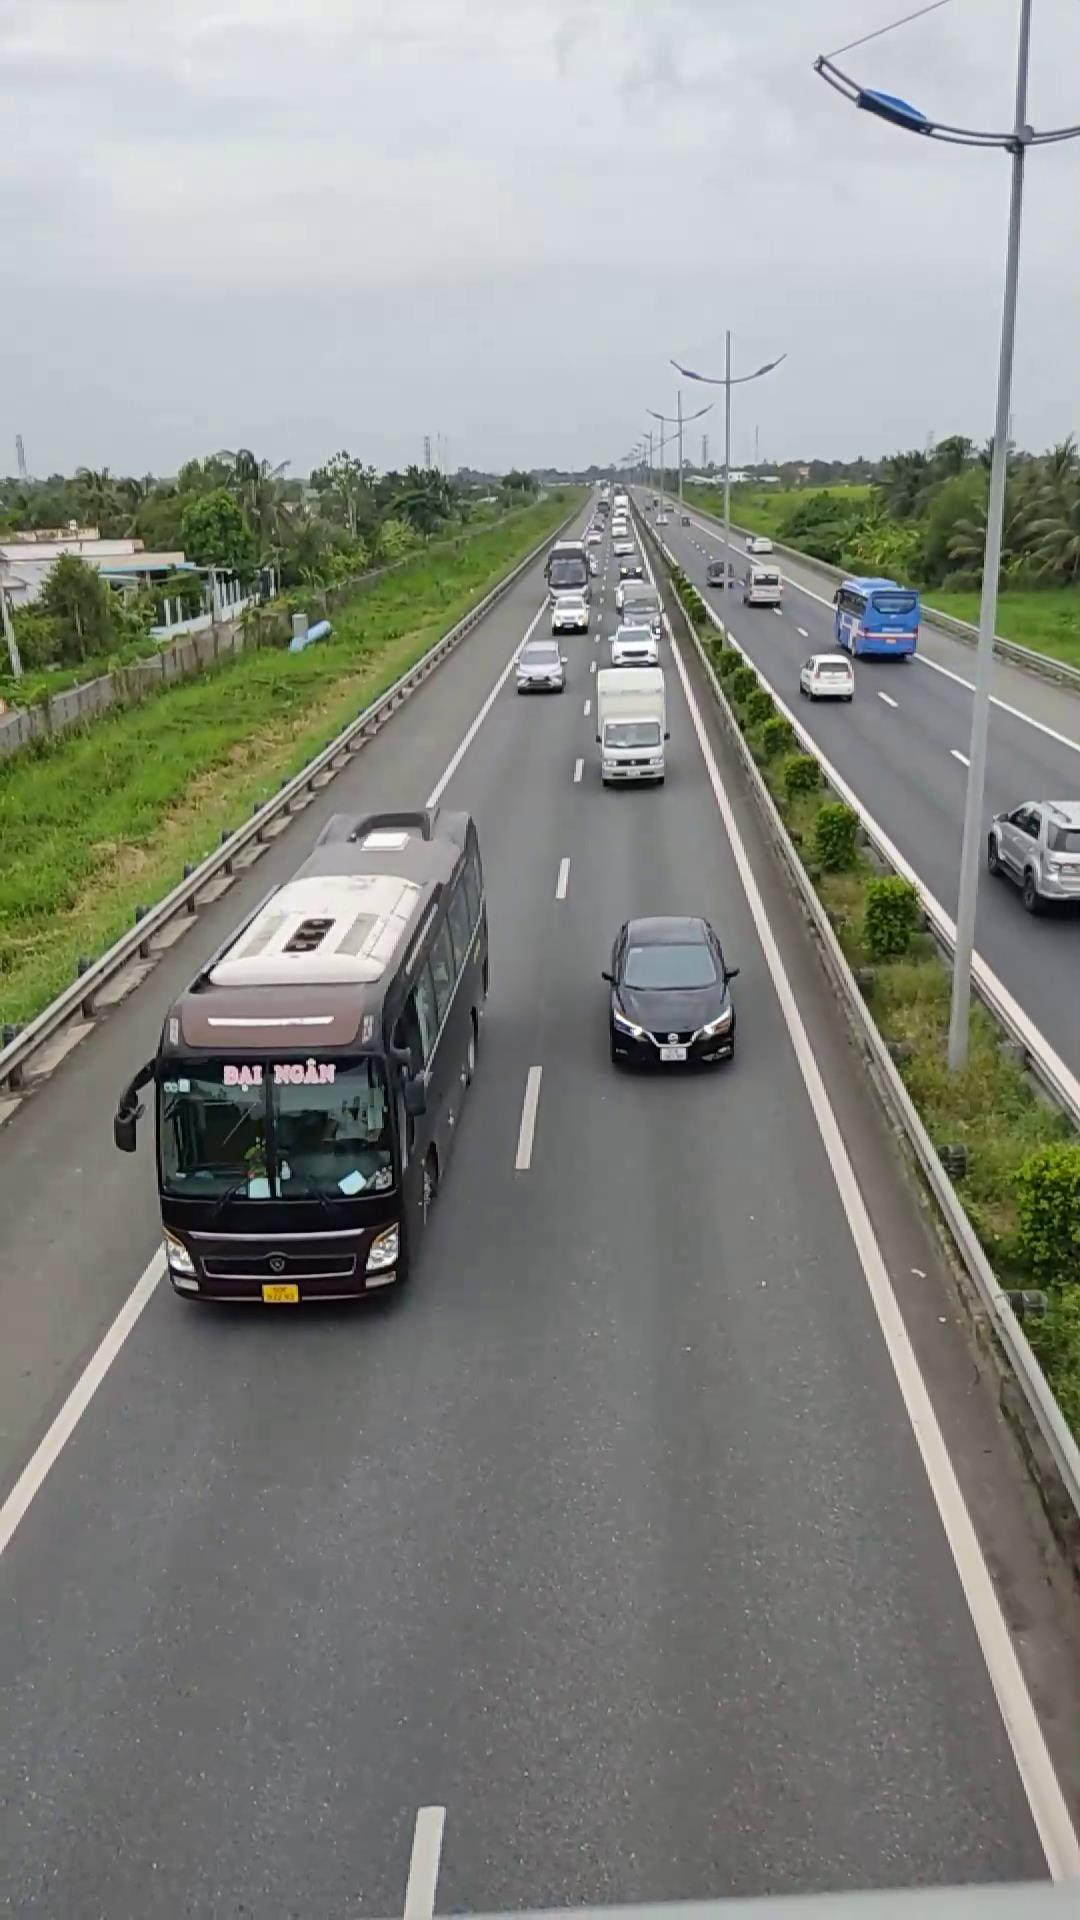bus: (123, 802, 495, 1304)
car: (601, 913, 738, 1069), (982, 791, 1079, 915)
truck: (589, 663, 673, 786), (833, 572, 919, 661)
